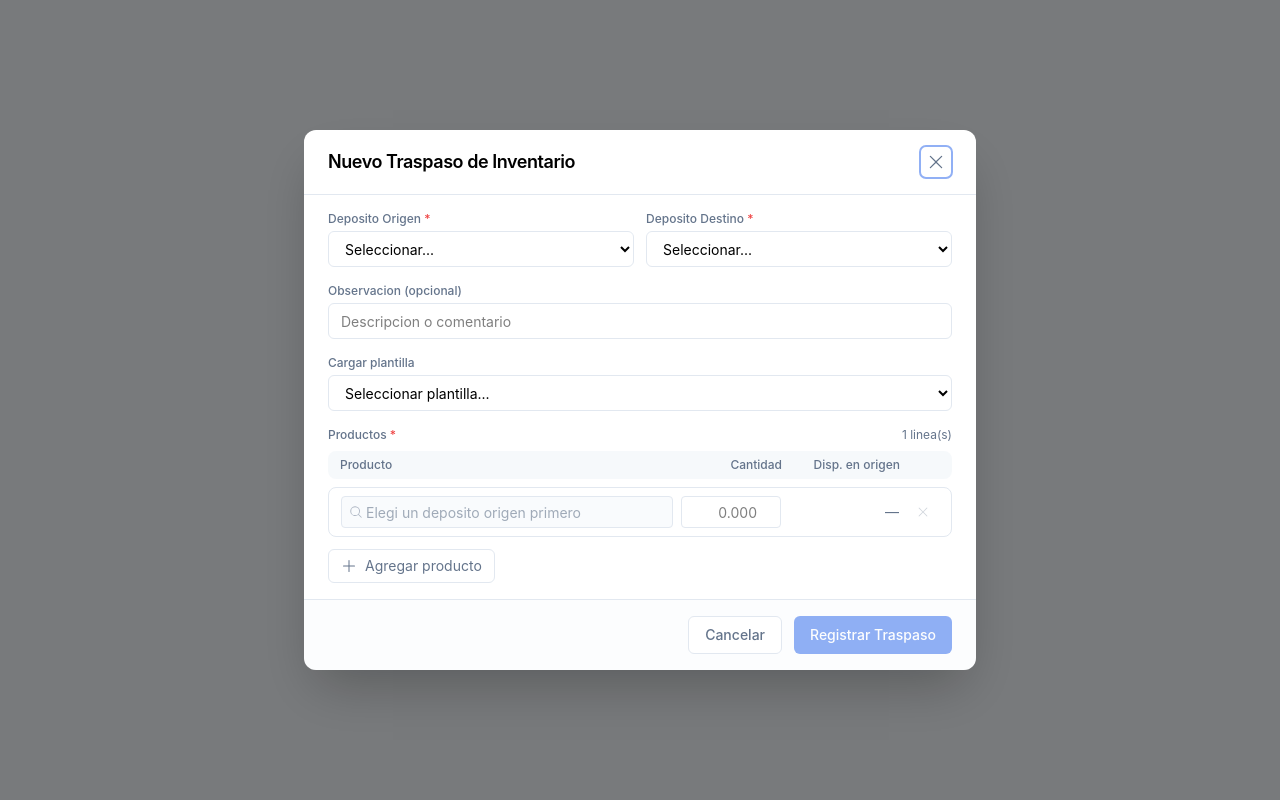
Test: TraspasoForm — Cargar plantilla (Slice C) › pide confirmacion si las lineas tienen datos; confirmar reemplaza las lineas
Select "Deposito A" in the dropdown labelled "Deposito Origen *": (481, 249) 328,231 -> 634,267
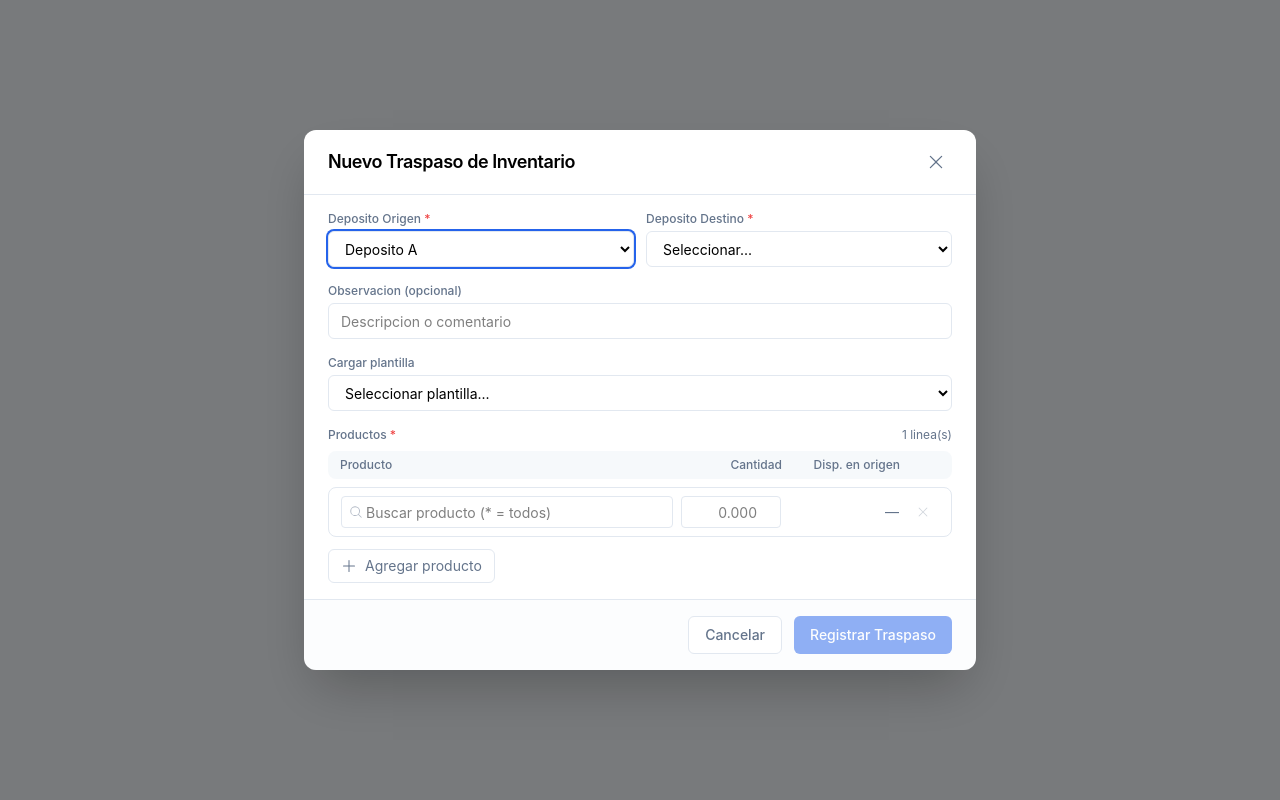
In the field with placeholder "Buscar producto (* = todos)": (507, 512) 341,496 -> 673,528, type "Producto Dos"
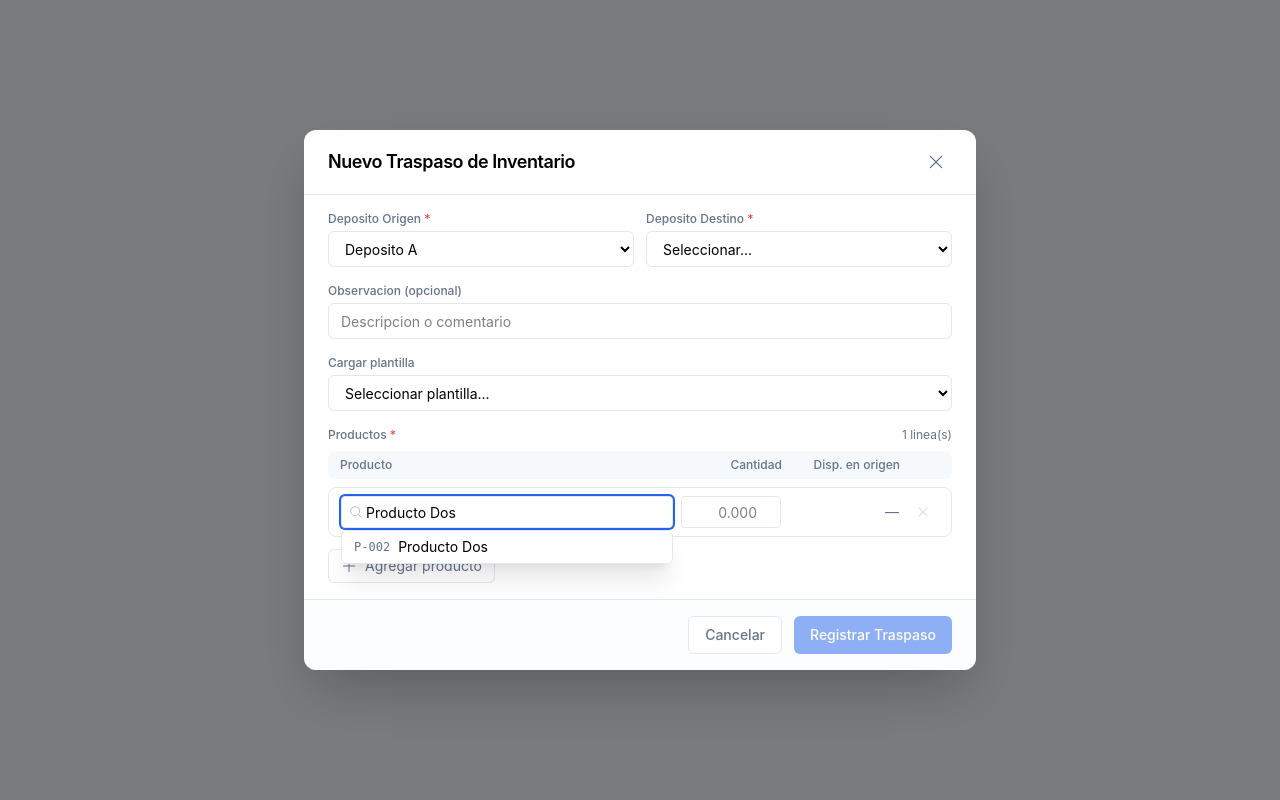
Click the text "Producto Dos": (443, 547) 398,537 -> 488,557
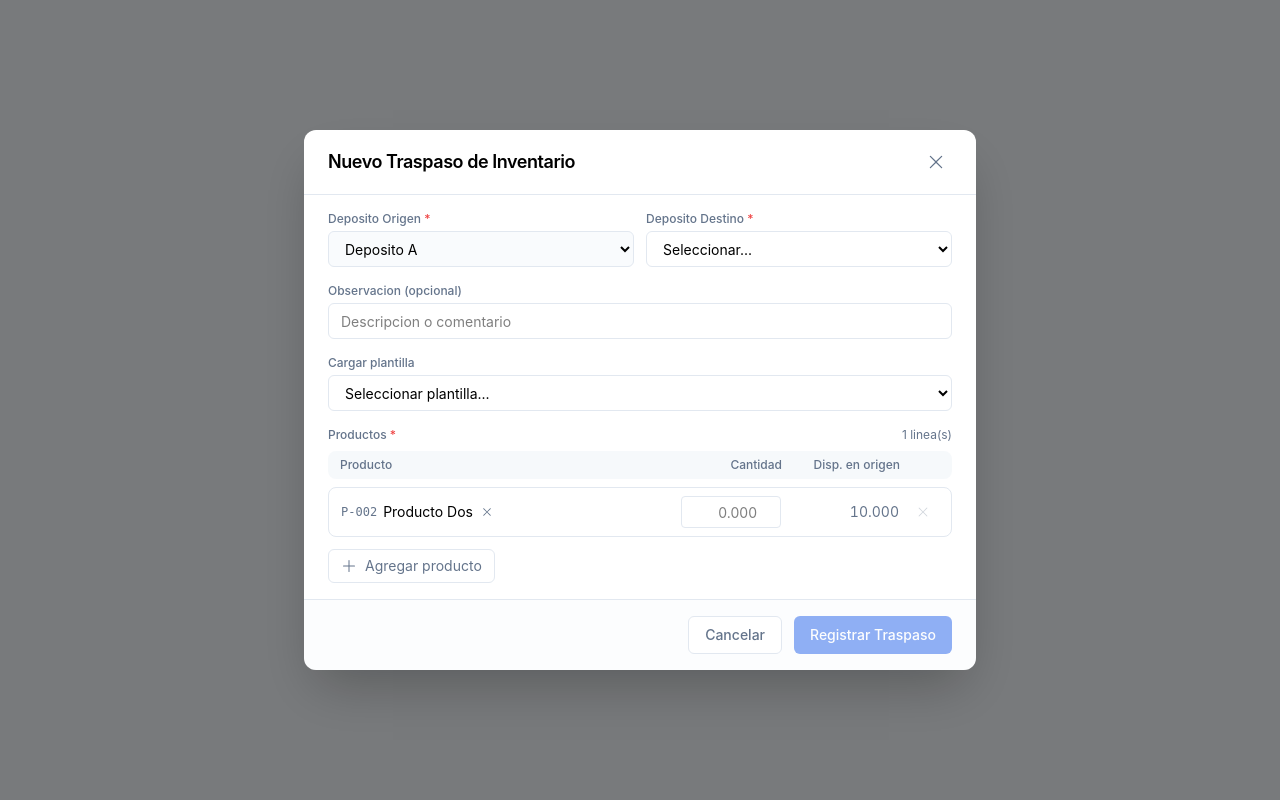
Select "Plantilla Semanal" in the dropdown labelled "Cargar plantilla": (640, 393) 328,375 -> 952,411
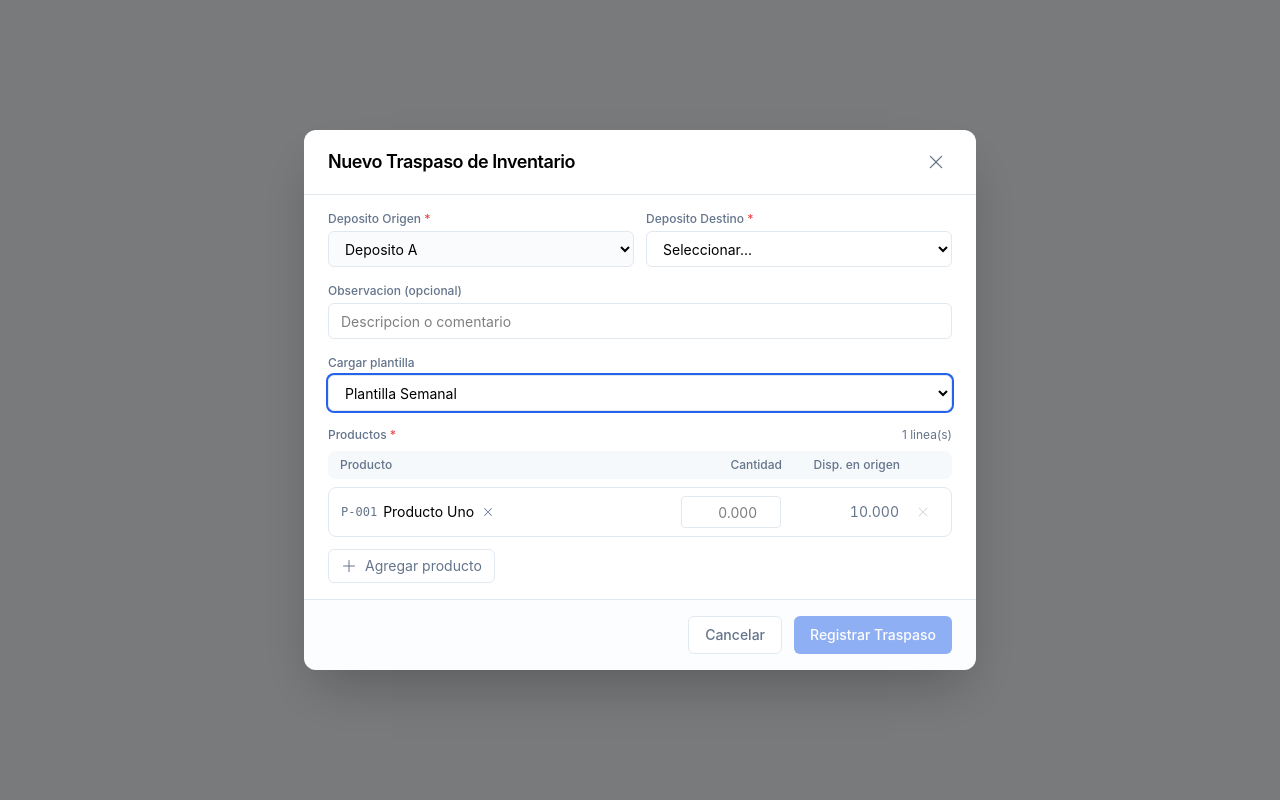
Result: the text "Producto Uno" is shown at 383,502 -> 474,522
Result: the text "Producto Dos" is gone
